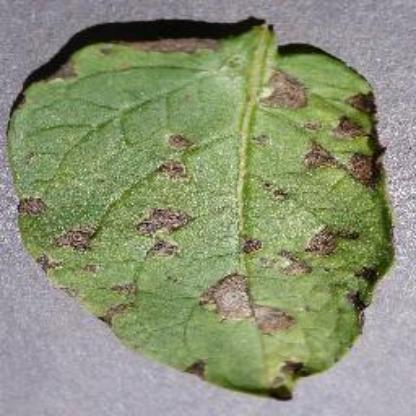Early-Blight: (9, 16, 397, 400)
